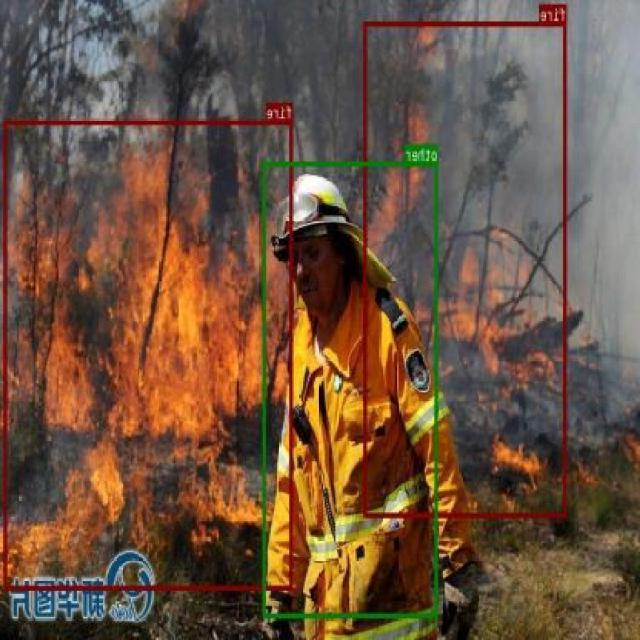Fire: (5, 119, 293, 590), (364, 20, 568, 517)
